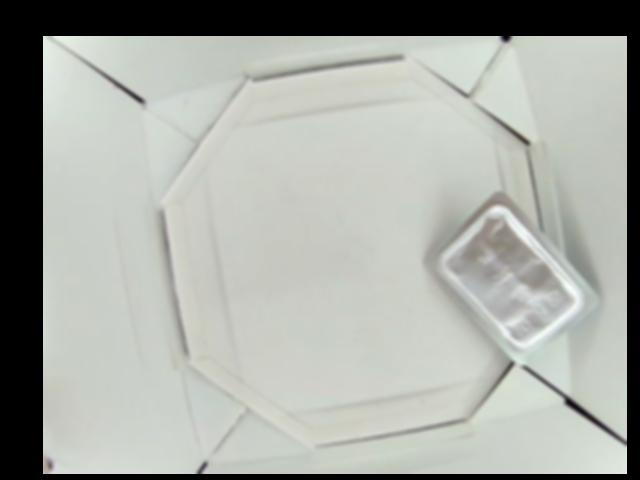Medicine: (424, 191, 596, 368)
